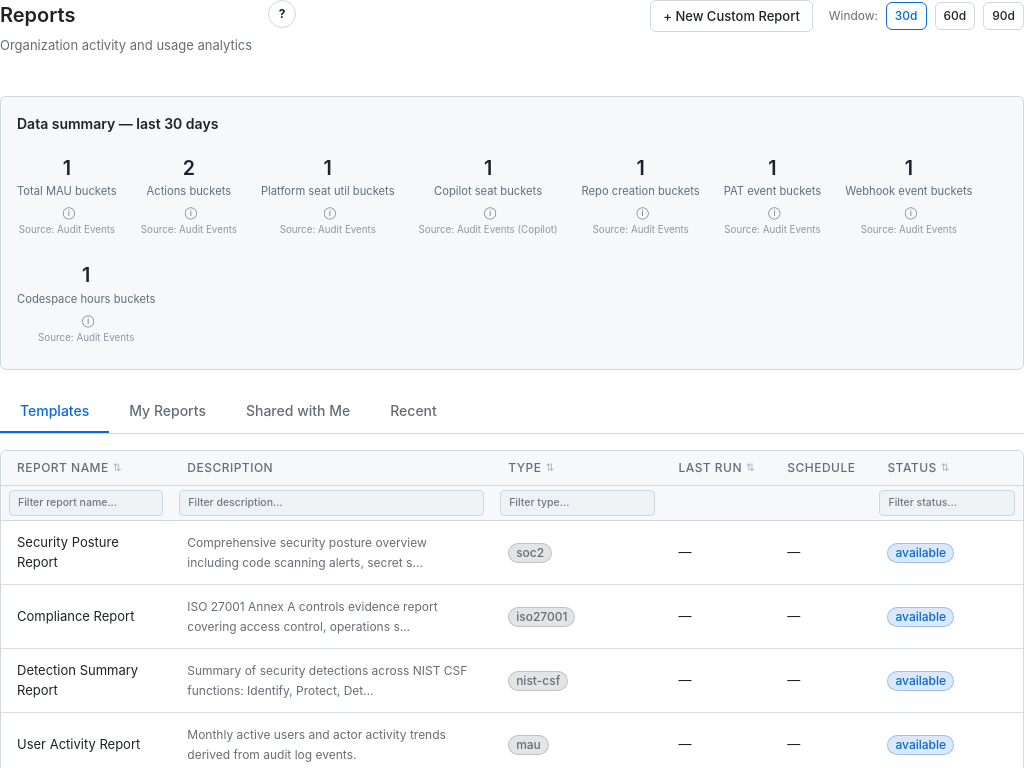
Test: ReportsPage › clicking a template row opens drawer with export buttons
Click the text "Security Posture Report".
click(68, 542)  # box [17,534,119,570]
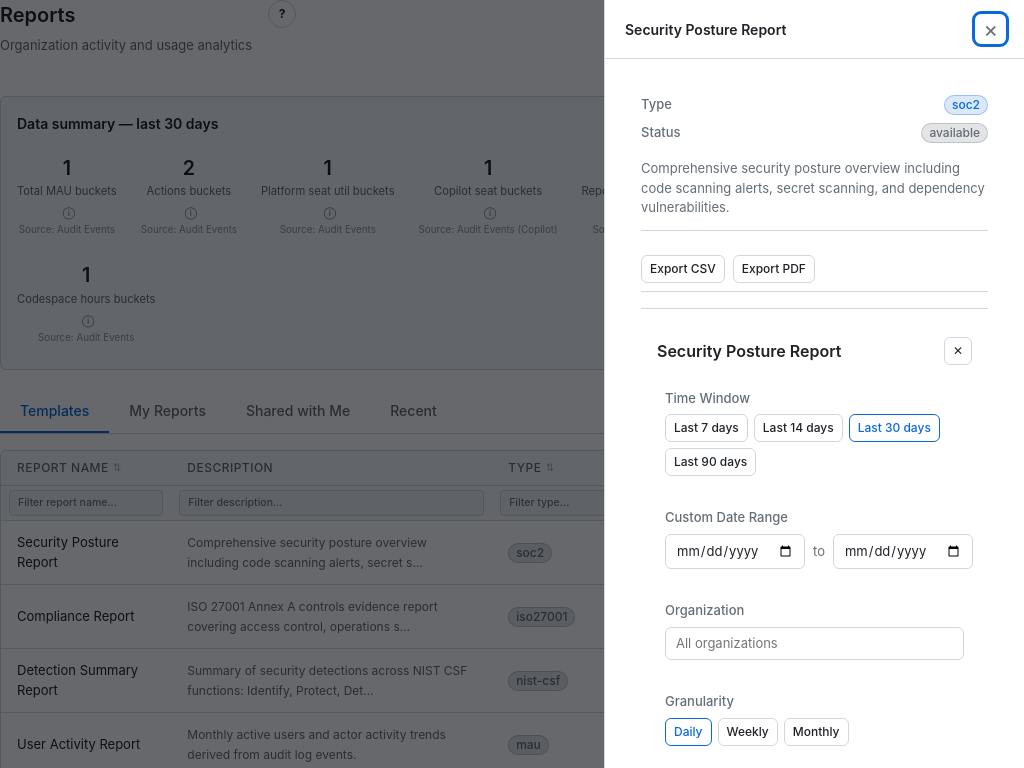
Result: the button "Export CSV" is shown at [641,254,725,282]
Result: the button "Export PDF" is shown at [733,254,815,282]
